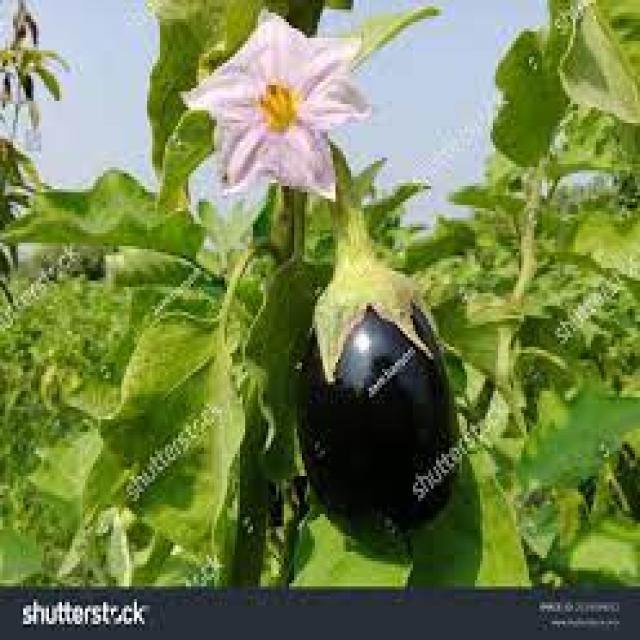Eggplant: (298, 274, 467, 554)
